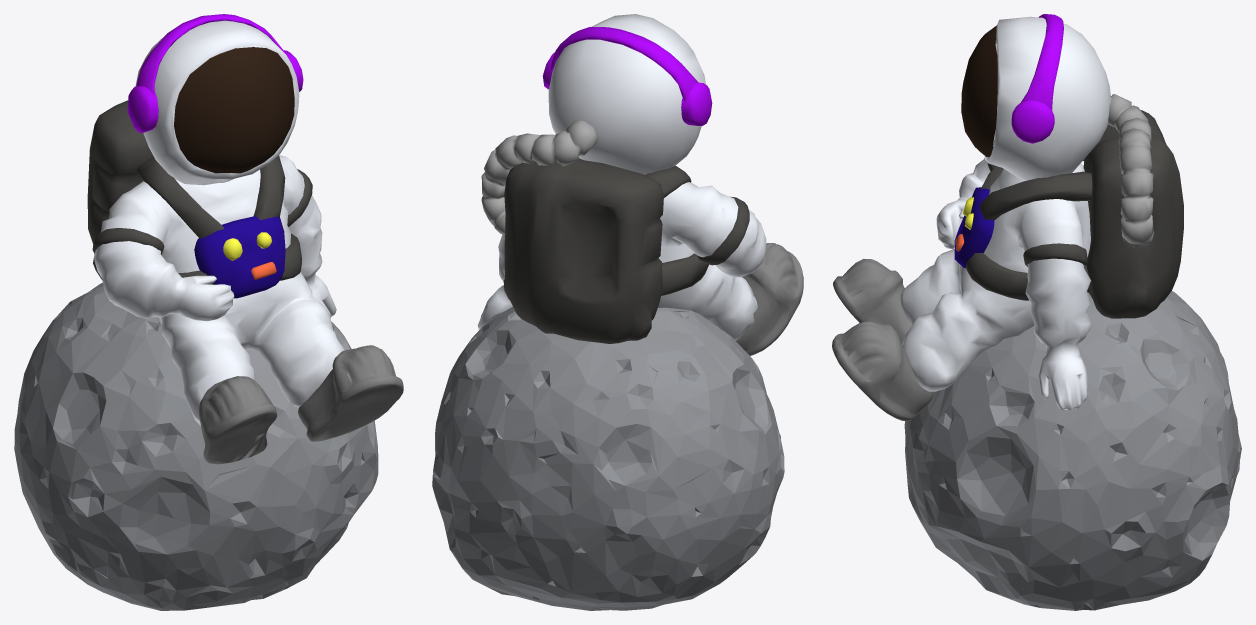
File: astronautMatOnly-min.glb
The picture shows the model from 3 angles, left to right: view 1: azimuth 30°, elevation 25°; view 2: azimuth 150°, elevation 25°; view 3: azimuth 270°, elevation 25°; orthographic projection. The views are drawn at different scales.
Visible parts, largest first — view 1: uploads_files_2961386_astronaut_fix_high, uploads_files_2961386_astronaut_fix_high.001, uploads_files_2961386_astronaut_fix_high.020, uploads_files_2961386_astronaut_fix_high.018, uploads_files_2961386_astronaut_fix_high.004, uploads_files_2961386_astronaut_fix_high.010, uploads_files_2961386_astronaut_fix_high.009, uploads_files_2961386_astronaut_fix_high.002, uploads_files_2961386_astronaut_fix_high.008; view 2: uploads_files_2961386_astronaut_fix_high, uploads_files_2961386_astronaut_fix_high.001, uploads_files_2961386_astronaut_fix_high.010, uploads_files_2961386_astronaut_fix_high.011, uploads_files_2961386_astronaut_fix_high.018, uploads_files_2961386_astronaut_fix_high.002, uploads_files_2961386_astronaut_fix_high.004; view 3: uploads_files_2961386_astronaut_fix_high, uploads_files_2961386_astronaut_fix_high.001, uploads_files_2961386_astronaut_fix_high.010, uploads_files_2961386_astronaut_fix_high.018, uploads_files_2961386_astronaut_fix_high.004, uploads_files_2961386_astronaut_fix_high.011, uploads_files_2961386_astronaut_fix_high.020, uploads_files_2961386_astronaut_fix_high.002, uploads_files_2961386_astronaut_fix_high.009.
Part boxes in pixels (<box>): uploads_files_2961386_astronaut_fix_high: <box>14,282,378,610</box>; uploads_files_2961386_astronaut_fix_high.001: <box>94,20,344,425</box>; uploads_files_2961386_astronaut_fix_high.020: <box>174,45,294,173</box>; uploads_files_2961386_astronaut_fix_high.018: <box>198,345,403,464</box>; uploads_files_2961386_astronaut_fix_high.004: <box>92,155,312,284</box>; uploads_files_2961386_astronaut_fix_high.010: <box>87,100,153,279</box>; uploads_files_2961386_astronaut_fix_high.009: <box>194,216,285,298</box>; uploads_files_2961386_astronaut_fix_high.002: <box>127,14,303,132</box>; uploads_files_2961386_astronaut_fix_high.008: <box>223,232,272,260</box>; uploads_files_2961386_astronaut_fix_high: <box>432,306,784,610</box>; uploads_files_2961386_astronaut_fix_high.001: <box>477,14,766,340</box>; uploads_files_2961386_astronaut_fix_high.010: <box>503,158,663,343</box>; uploads_files_2961386_astronaut_fix_high.011: <box>481,119,598,235</box>; uploads_files_2961386_astronaut_fix_high.018: <box>736,243,803,355</box>; uploads_files_2961386_astronaut_fix_high.002: <box>542,27,712,125</box>; uploads_files_2961386_astronaut_fix_high.004: <box>645,165,749,295</box>; uploads_files_2961386_astronaut_fix_high: <box>904,291,1241,610</box>; uploads_files_2961386_astronaut_fix_high.001: <box>900,16,1110,410</box>; uploads_files_2961386_astronaut_fix_high.010: <box>1083,110,1183,318</box>; uploads_files_2961386_astronaut_fix_high.018: <box>832,259,934,421</box>; uploads_files_2961386_astronaut_fix_high.004: <box>966,159,1092,300</box>; uploads_files_2961386_astronaut_fix_high.011: <box>1108,94,1154,247</box>; uploads_files_2961386_astronaut_fix_high.020: <box>961,25,997,157</box>; uploads_files_2961386_astronaut_fix_high.002: <box>1011,14,1063,143</box>; uploads_files_2961386_astronaut_fix_high.009: <box>954,187,994,268</box>.
Bounding box in the file's own units: 3.03 × 5 × 3.47.
